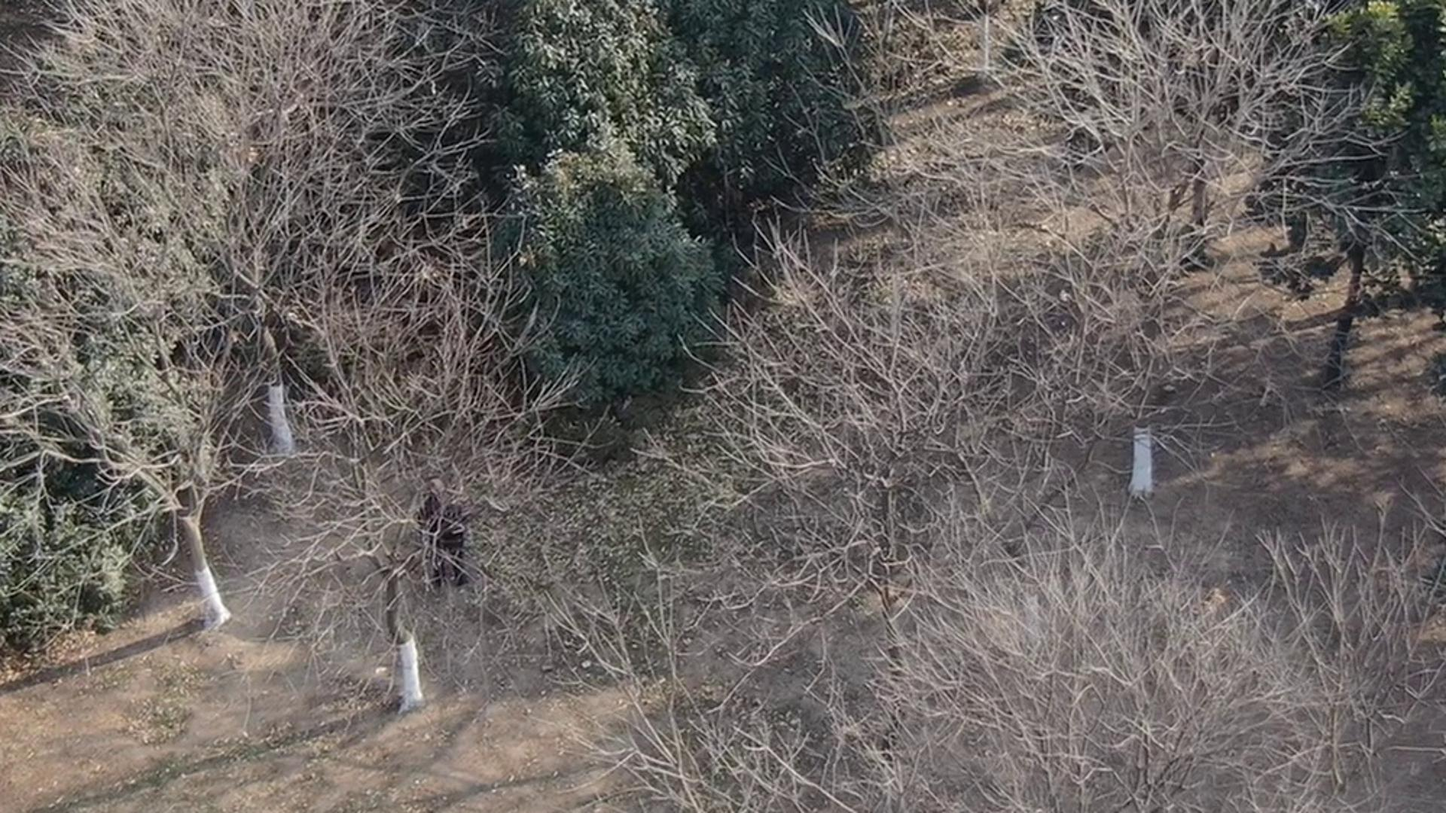human: (409, 458, 455, 575)
